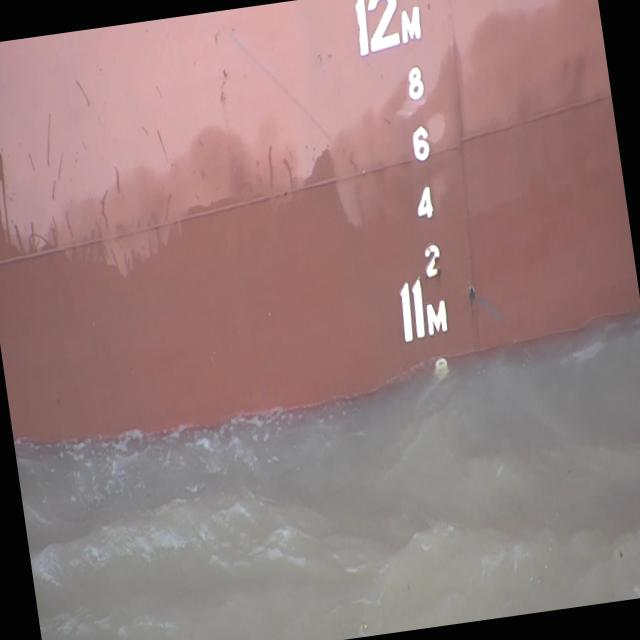Ship Draft Marks: (363, 0, 404, 52), (409, 276, 429, 339), (397, 280, 416, 344), (353, 0, 372, 58), (398, 5, 424, 44), (424, 300, 450, 337), (404, 66, 426, 102), (422, 242, 443, 278), (411, 126, 432, 162), (414, 185, 435, 220), (433, 356, 450, 381)
